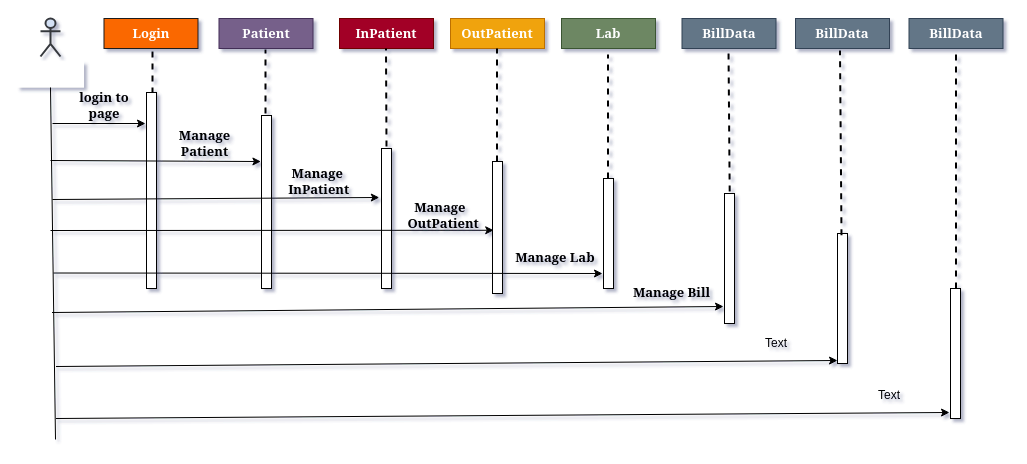
Some shapes in this 1027 by 464 pixel diagram are drawn without their labels. Each missing label, with the box of its shape:
Actor: (39, 17, 61, 57)
ADMIN: (16, 61, 84, 87)
